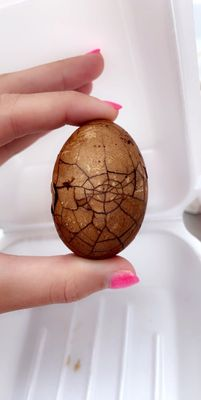pizza: (0, 44, 154, 373), (0, 47, 123, 150), (0, 251, 141, 314)
